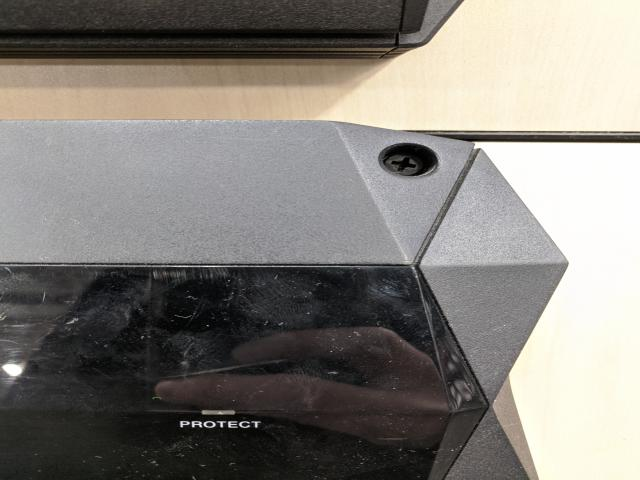CRS: (384, 152, 429, 179)
